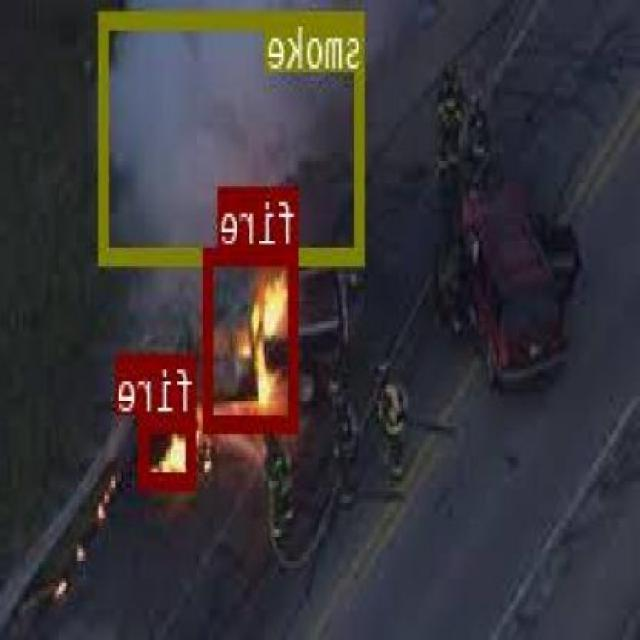Fire: (206, 247, 300, 427), (142, 412, 196, 486)
Smoke: (101, 8, 366, 261)
